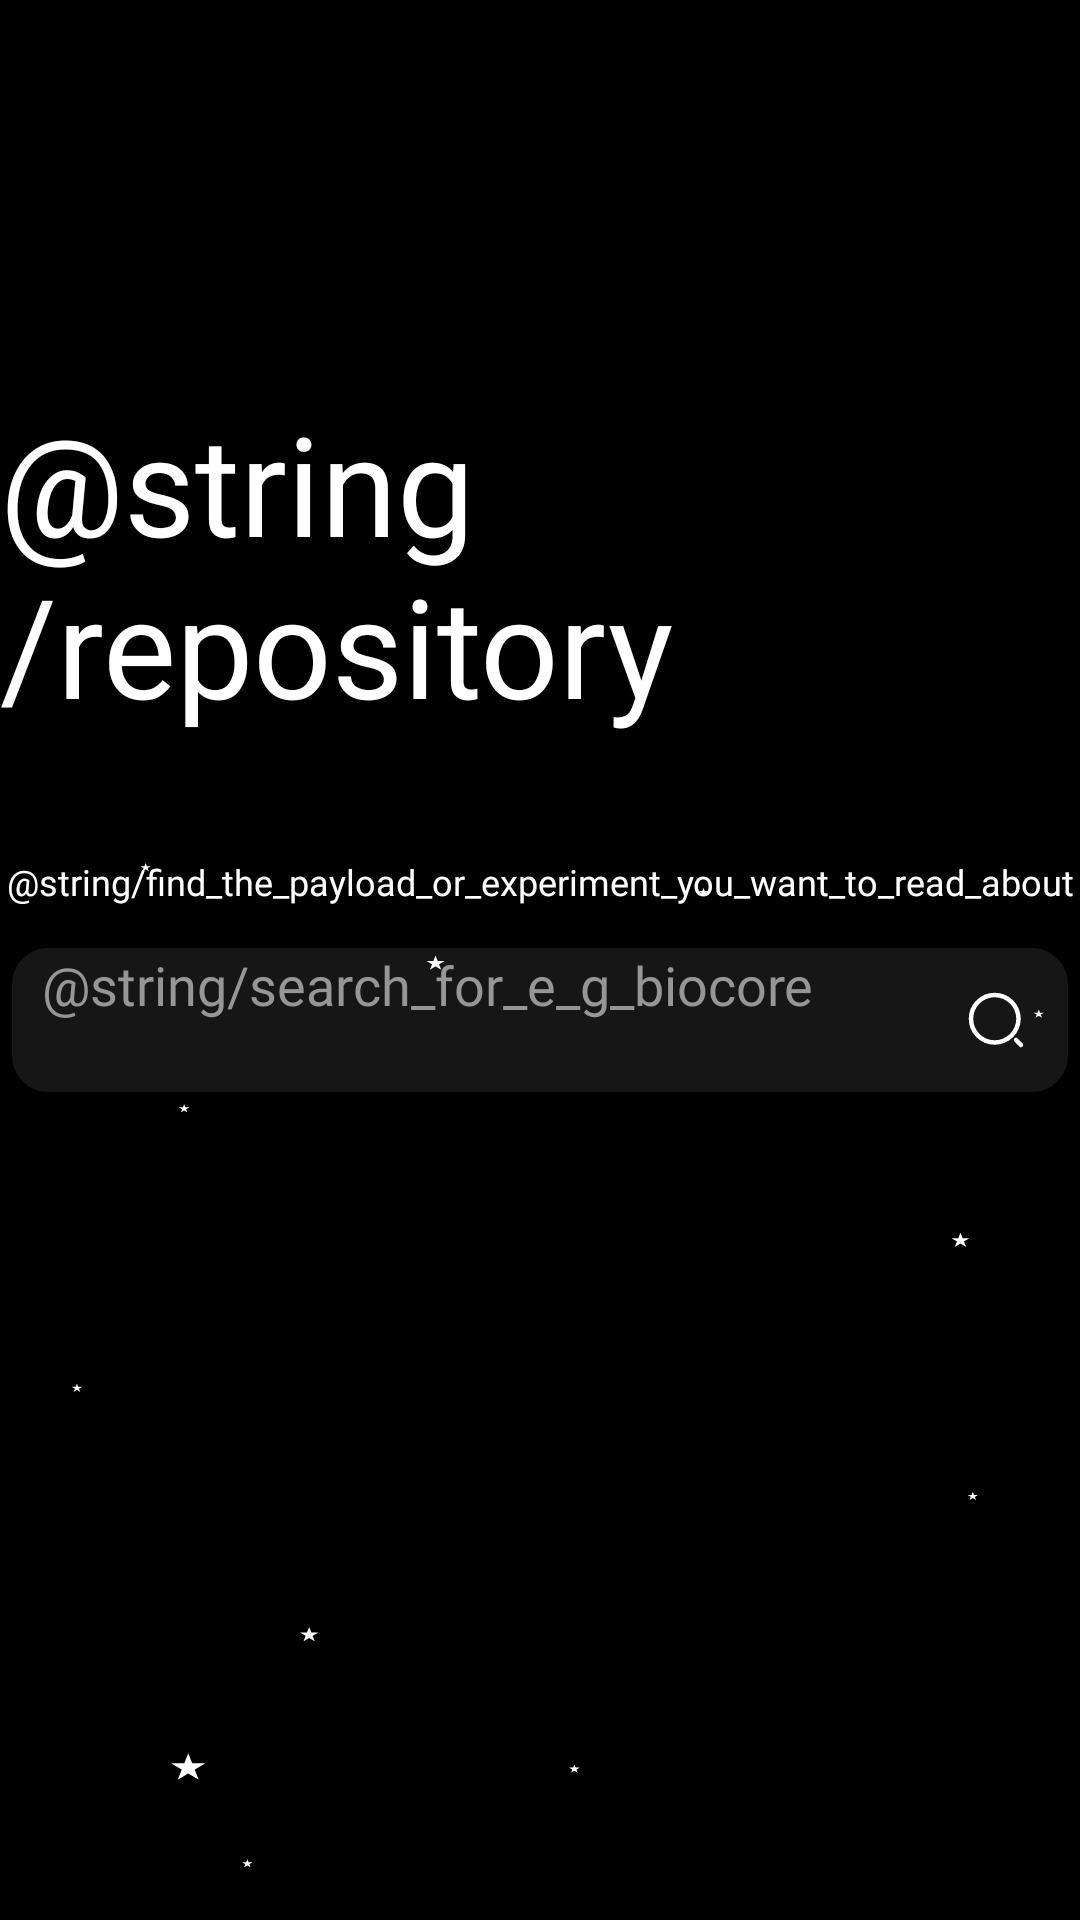

Locate icon controls on the screen. Image size 1080x1920, boxes as region(x1, y1, x2, y2).
search: region(968, 992, 1024, 1048)
